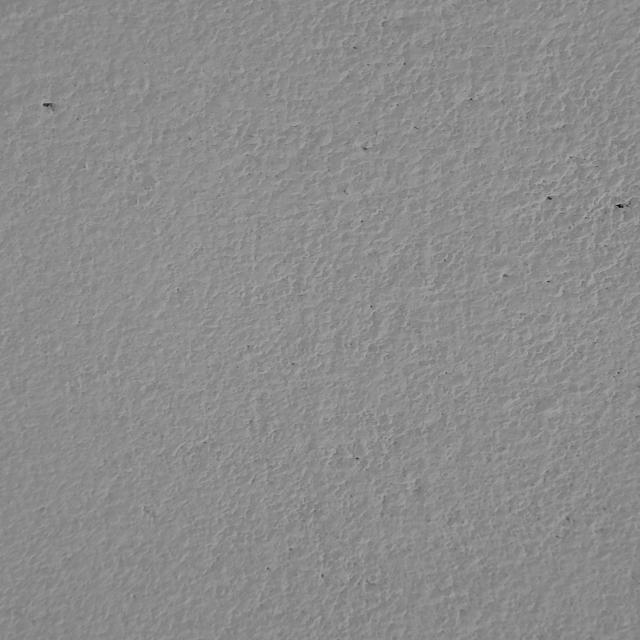rough and patchy surface: (9, 0, 640, 633)
